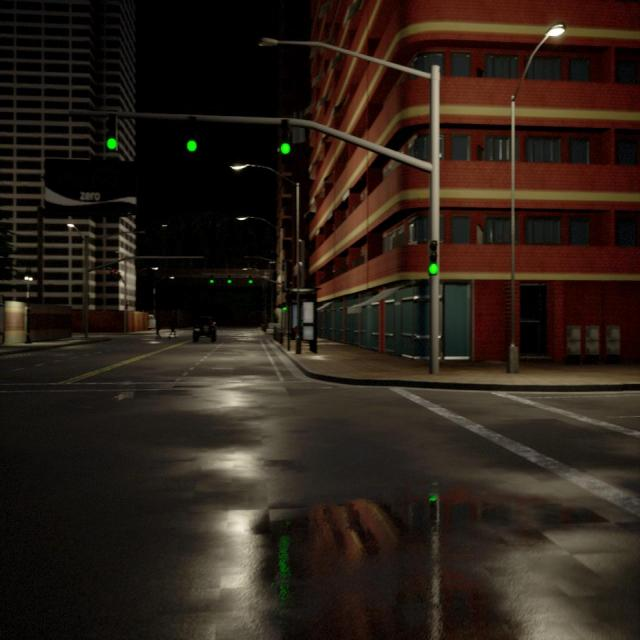Pedestrian: (167, 310, 178, 341), (154, 310, 163, 340)
Vehicle: (192, 316, 217, 343), (148, 314, 156, 331)
traffic_light: (186, 116, 198, 154), (106, 116, 118, 152), (280, 119, 291, 155), (428, 240, 438, 275), (110, 269, 115, 281), (227, 274, 232, 284), (248, 276, 253, 284), (210, 275, 214, 284), (125, 301, 129, 310), (115, 271, 118, 282), (283, 306, 287, 312), (118, 272, 120, 281)
